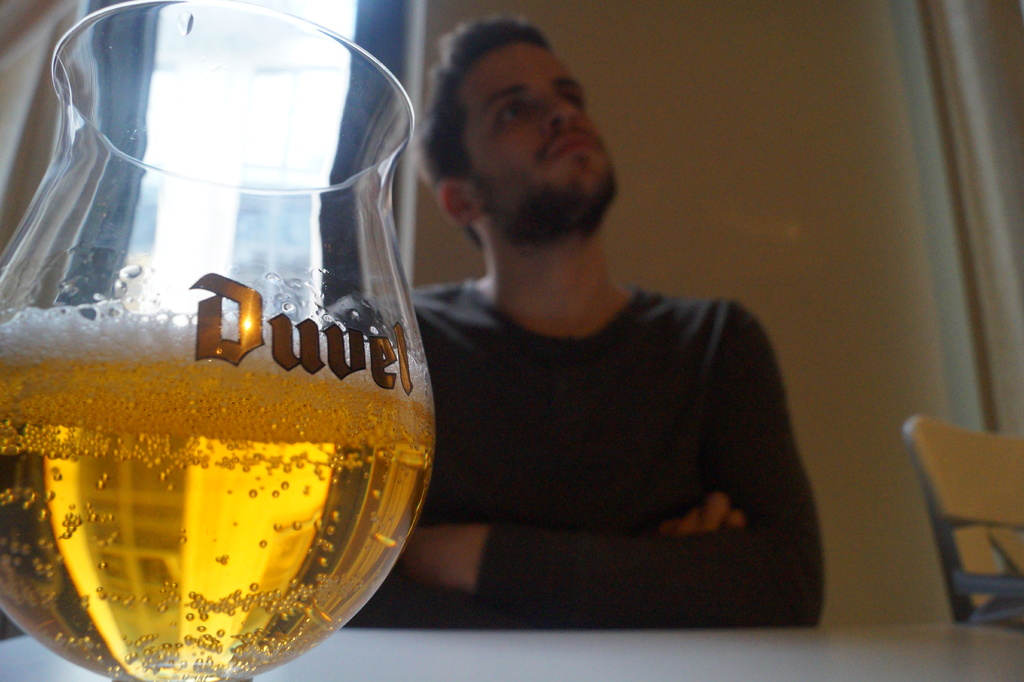Beer: (14, 0, 492, 681)
